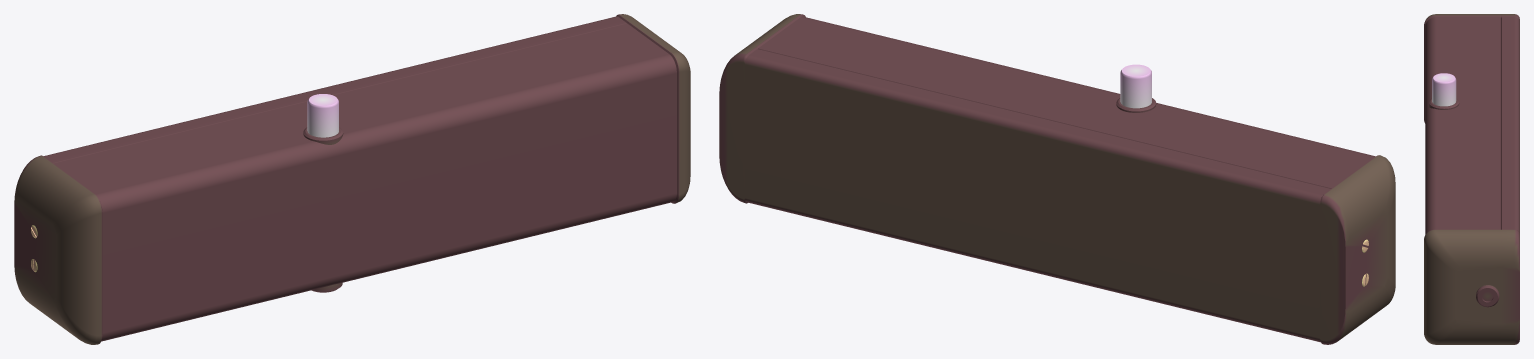
Rendered from Kit_DoorCloser_Body.fbx.
3 renders of one model, left to right at view 1: azimuth 30°, elevation 25°; view 2: azimuth 150°, elevation 25°; view 3: azimuth 270°, elevation 25°, orthographic. The views are drawn at different scales.
Visible parts, largest first — view 1: Kit_DoorCloser_Body_LOD0; view 2: Kit_DoorCloser_Body_LOD0; view 3: Kit_DoorCloser_Body_LOD0.
Boxes of the visible parts, left/top/right/bottom form: Kit_DoorCloser_Body_LOD0: left=14, top=14, right=690, bottom=344; Kit_DoorCloser_Body_LOD0: left=719, top=14, right=1395, bottom=344; Kit_DoorCloser_Body_LOD0: left=1424, top=14, right=1519, bottom=344.
Size of what is drawn, in the model's own units: 0.2923 by 0.0828 by 0.0506.
